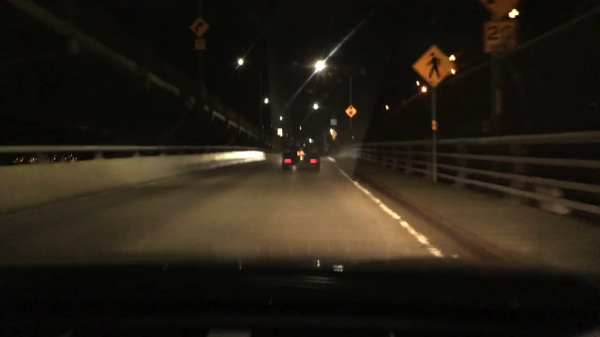car: (283, 138, 321, 173), (14, 150, 56, 164), (56, 151, 79, 161)
traffic sign: (410, 44, 455, 88), (484, 22, 518, 51), (474, 1, 520, 17), (190, 17, 209, 38), (346, 105, 358, 118), (195, 39, 206, 49), (328, 131, 337, 139), (330, 118, 337, 125)
